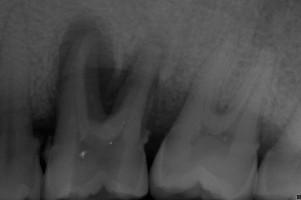Dental Caries: (56, 16, 170, 115)
